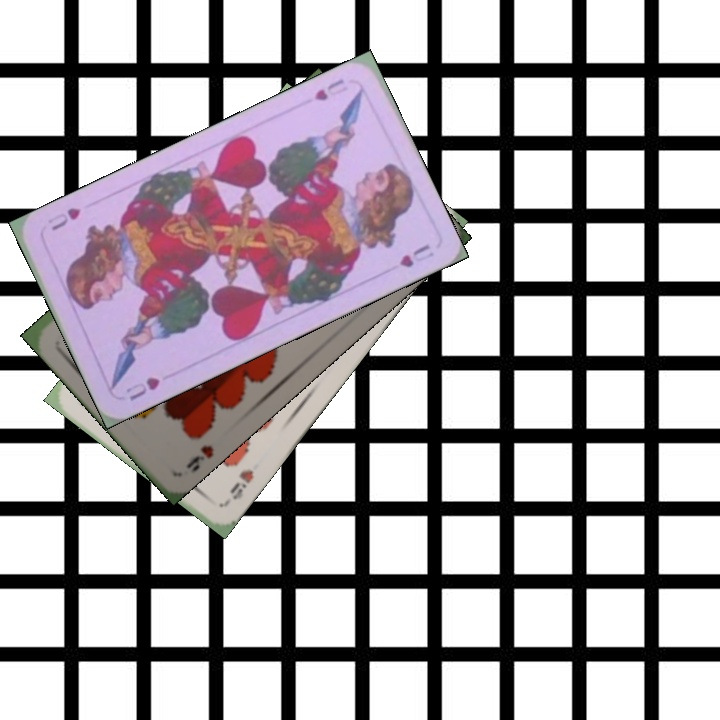H9: (221, 465, 257, 508), (182, 441, 217, 476)
HU: (121, 372, 163, 404), (310, 75, 351, 104)
